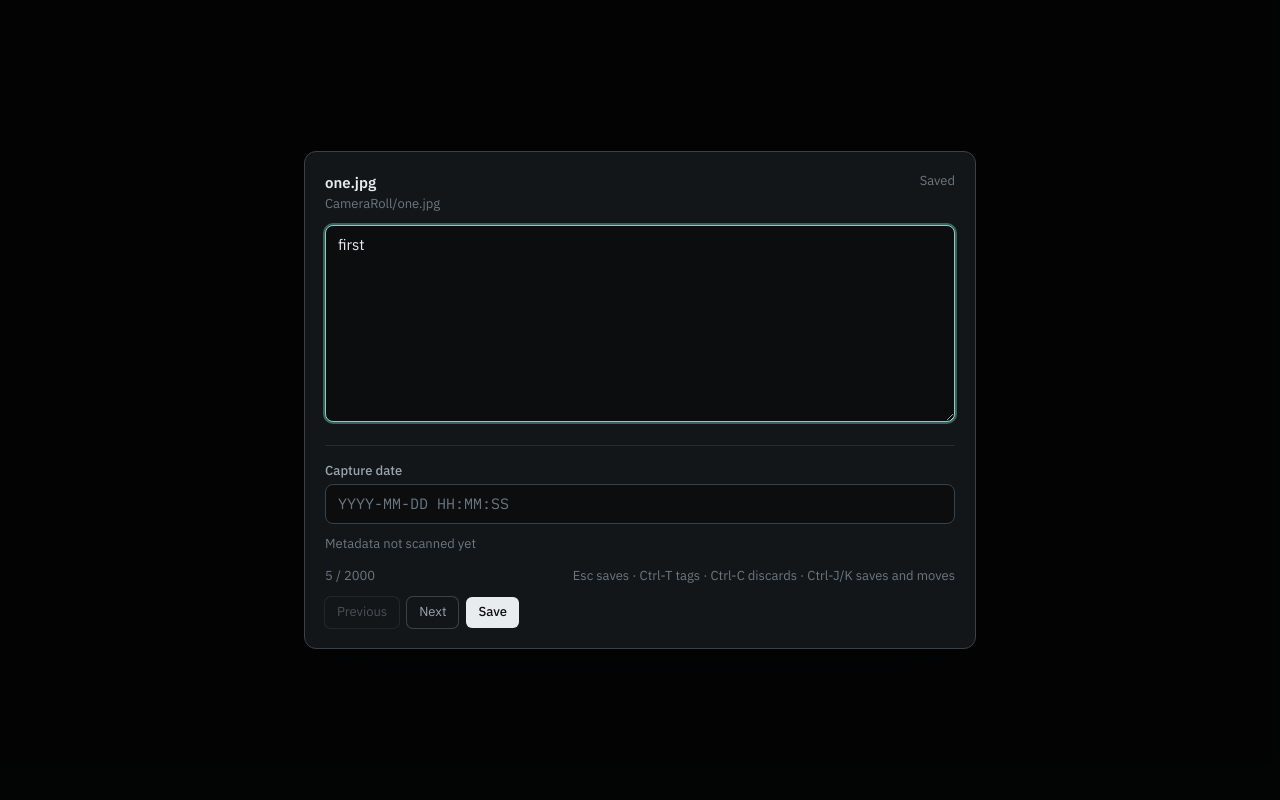
Test: DescriptionEditor › should save and move without leaving the editor on Ctrl-J
This screenshot has width=1280, height=800.
Step 1. Replace the text in the text box named "Description for one.jpg" with "changed first" → (640, 324), box [325, 225, 955, 422]
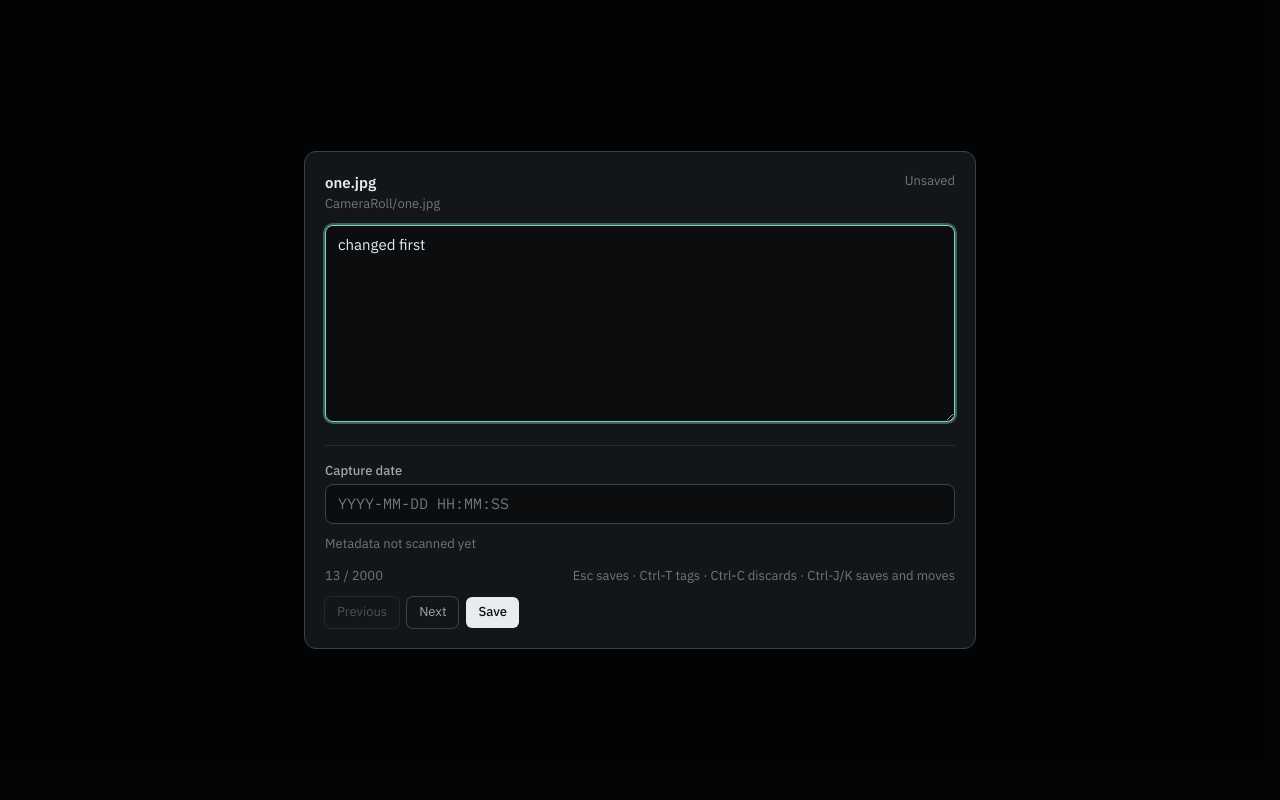
Step 2. Press j in the text box named "Description for one.jpg", box [325, 225, 955, 422]
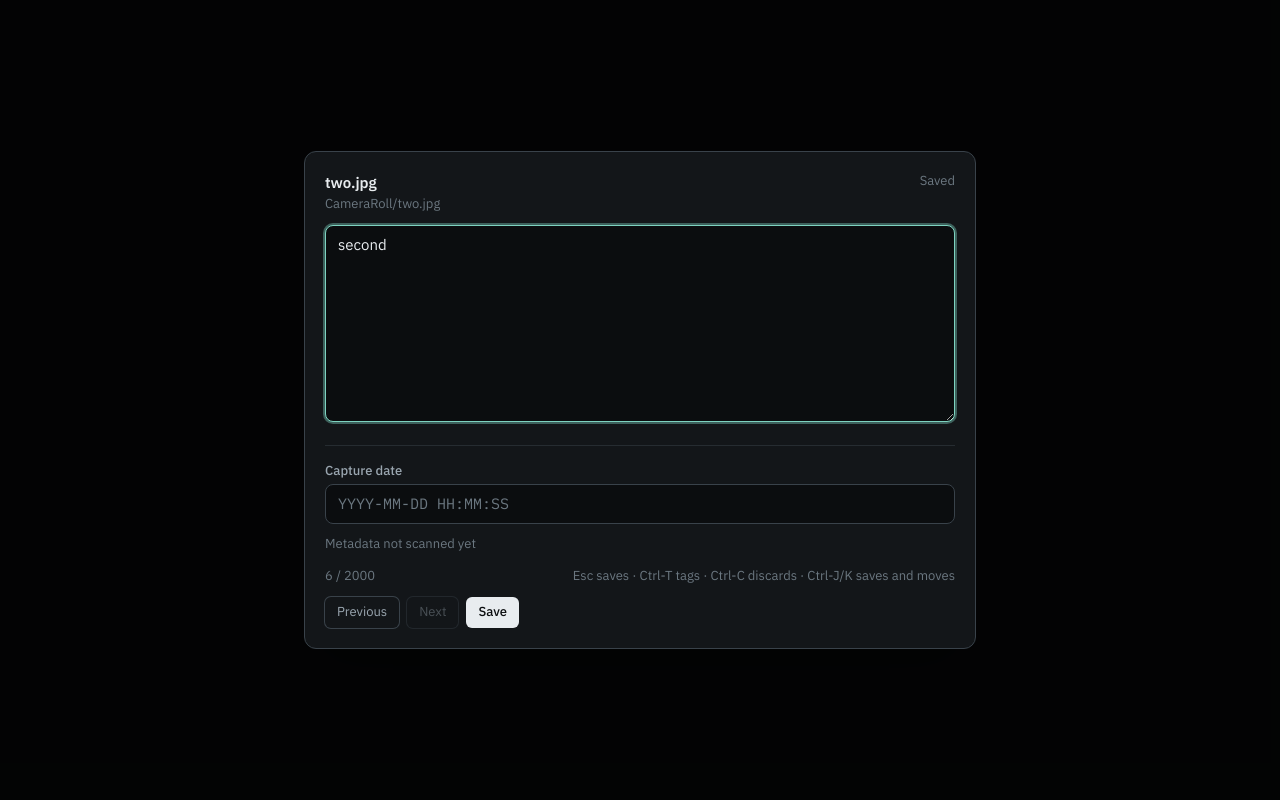
Result: the text box named "Description for two.jpg" is shown at [325, 225, 955, 422]
